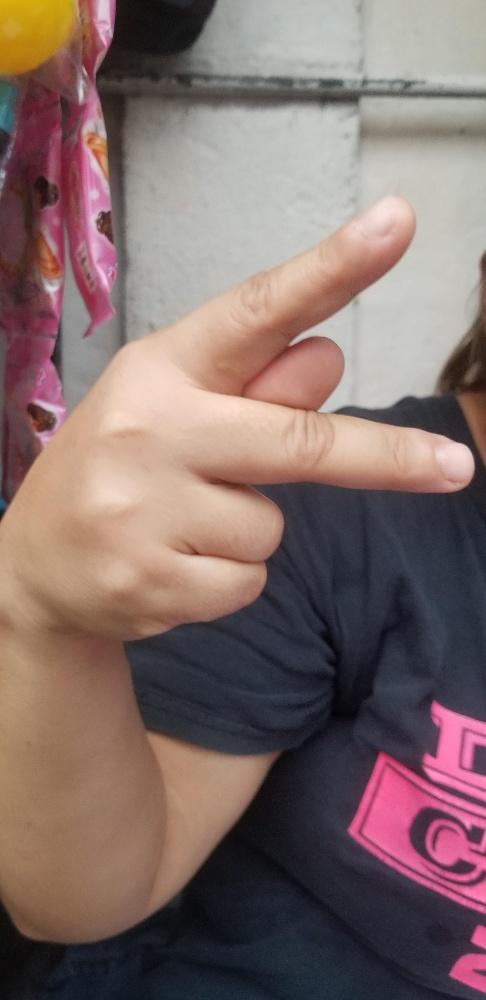k: (0, 192, 476, 643)
